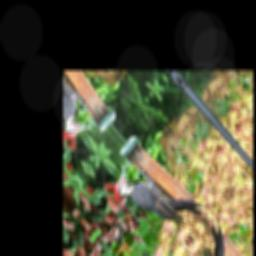Woodpecker: (105, 138, 207, 256)
